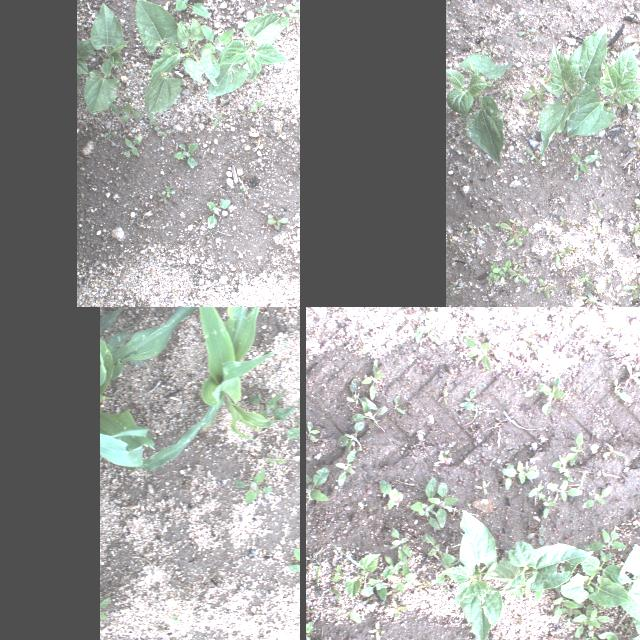crop: (133, 307, 276, 471), (101, 307, 236, 403), (130, 2, 222, 122), (536, 22, 606, 156), (433, 509, 502, 640), (206, 13, 292, 101), (446, 54, 514, 164), (565, 47, 640, 137), (487, 540, 593, 602), (77, 1, 131, 115), (560, 551, 634, 607), (100, 411, 154, 474), (343, 553, 381, 601), (623, 543, 640, 622)
weed: (408, 477, 458, 531), (344, 378, 388, 432), (200, 22, 237, 62), (231, 470, 271, 504), (252, 396, 290, 429), (574, 604, 612, 636), (500, 460, 540, 490), (536, 376, 566, 416), (462, 336, 493, 374), (422, 534, 456, 568), (580, 528, 628, 552), (330, 588, 360, 624), (547, 478, 587, 504), (412, 310, 442, 344), (306, 466, 328, 512), (360, 568, 388, 604), (360, 362, 384, 400), (167, 0, 211, 20), (550, 451, 574, 487), (172, 142, 198, 174), (581, 277, 606, 307), (336, 432, 360, 463), (306, 547, 322, 593), (378, 480, 402, 510), (285, 393, 300, 440), (206, 200, 230, 228), (288, 534, 300, 588), (581, 488, 613, 508), (570, 154, 596, 178), (552, 596, 576, 622), (567, 432, 583, 468), (488, 259, 510, 285), (458, 388, 480, 414), (389, 529, 411, 555), (120, 102, 144, 125), (389, 573, 415, 593), (621, 275, 640, 301), (534, 278, 558, 298), (624, 24, 640, 54), (334, 462, 354, 486), (614, 378, 632, 404), (123, 136, 143, 158), (100, 594, 112, 630), (265, 454, 291, 470), (500, 222, 528, 236), (520, 326, 534, 354), (553, 246, 571, 266), (526, 482, 546, 500), (384, 556, 402, 576), (386, 600, 408, 616), (330, 560, 344, 584), (544, 496, 558, 520), (524, 148, 542, 166), (626, 361, 640, 384), (503, 232, 523, 248), (508, 268, 528, 284), (266, 217, 288, 231), (522, 86, 544, 100), (162, 614, 184, 628), (627, 618, 640, 640), (360, 334, 374, 354), (412, 579, 432, 593), (283, 2, 300, 18), (474, 479, 491, 495), (156, 186, 178, 198), (397, 548, 408, 572), (579, 272, 593, 290), (306, 423, 320, 441), (368, 622, 382, 640), (532, 526, 544, 546), (536, 345, 548, 365), (604, 446, 624, 458), (626, 140, 640, 156), (568, 602, 584, 616), (629, 223, 639, 243), (425, 330, 439, 344), (394, 396, 404, 414), (525, 100, 547, 108), (250, 101, 264, 113), (305, 617, 312, 640), (517, 29, 537, 37), (592, 148, 600, 168), (502, 87, 514, 99), (485, 45, 497, 57), (212, 113, 222, 127), (593, 204, 603, 218), (474, 42, 488, 52), (466, 225, 479, 235), (436, 450, 449, 460), (634, 196, 640, 217), (487, 223, 498, 234), (446, 234, 456, 246), (508, 218, 522, 226), (558, 215, 566, 229), (442, 388, 448, 406), (585, 632, 598, 640), (549, 634, 566, 640), (305, 604, 315, 614), (512, 260, 524, 268), (544, 230, 556, 238), (518, 8, 524, 22), (592, 224, 600, 234), (608, 50, 620, 56), (238, 186, 248, 192), (569, 222, 579, 228), (524, 391, 534, 397), (286, 288, 294, 294), (450, 284, 454, 296), (634, 98, 640, 106), (568, 249, 580, 253), (516, 616, 522, 624), (596, 471, 602, 479), (507, 372, 513, 378), (566, 618, 572, 624), (464, 501, 472, 505), (542, 610, 550, 614), (494, 423, 500, 427), (636, 302, 640, 307), (579, 307, 585, 310), (482, 382, 486, 386)
